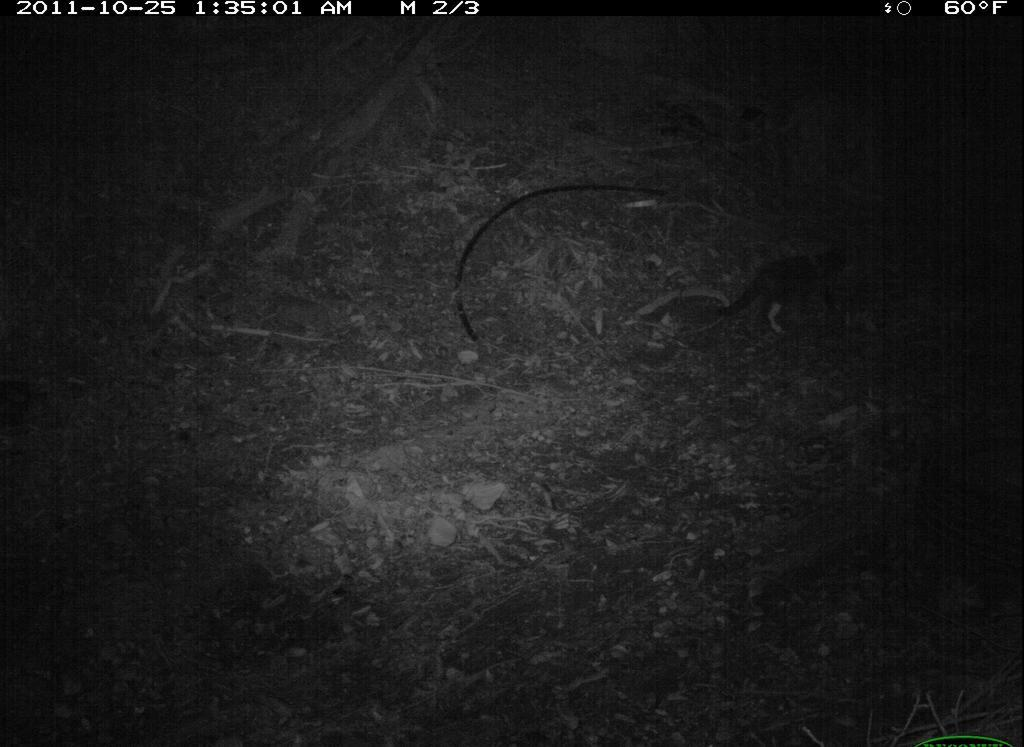cat: (687, 219, 856, 363)
